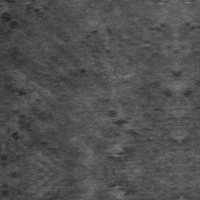rolled-in_scale: (2, 80, 62, 156), (98, 97, 146, 169), (0, 0, 49, 32)
